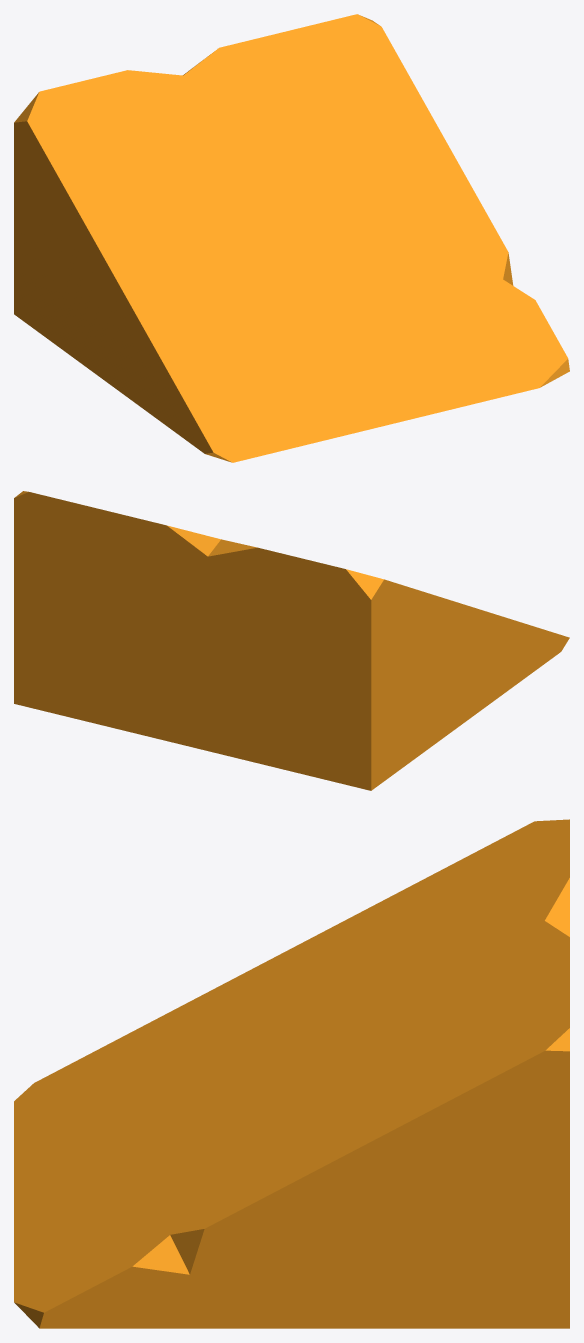
File: SM_Buildings_Ramp_30_1x1_01P.fbx
3 views of the same model, one above another, from view 1: azimuth 30°, elevation 25°; view 2: azimuth 150°, elevation 25°; view 3: azimuth 270°, elevation 25° (orthographic). The views are drawn at different scales.
Visible parts, largest first — view 1: SM_Buildings_Ramp_30_1x1_01P; view 2: SM_Buildings_Ramp_30_1x1_01P; view 3: SM_Buildings_Ramp_30_1x1_01P.
Boxes of the visible parts, bbox=[...] form: SM_Buildings_Ramp_30_1x1_01P: bbox=[14, 14, 569, 462]; SM_Buildings_Ramp_30_1x1_01P: bbox=[14, 491, 569, 790]; SM_Buildings_Ramp_30_1x1_01P: bbox=[14, 819, 569, 1328].
Size of the model in its own units: 100 by 57.7 by 100.
